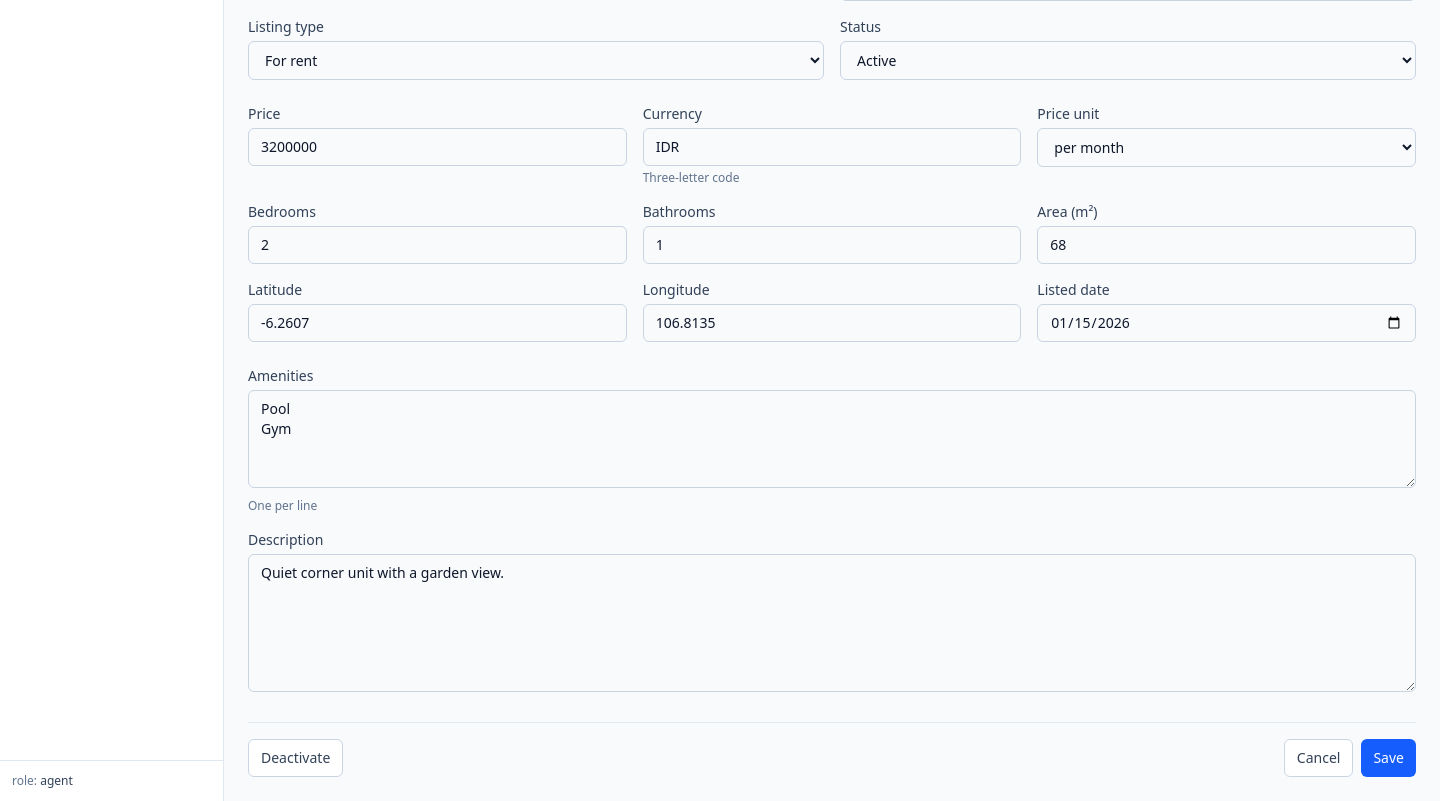
Test case: PropertyDetailPage › confirms before deactivating, and reflects the returned status
This screenshot has width=1440, height=801.
(page scrolled)
Click the button "Deactivate" at (296, 758), box [248,739,343,777]
(page scrolled)
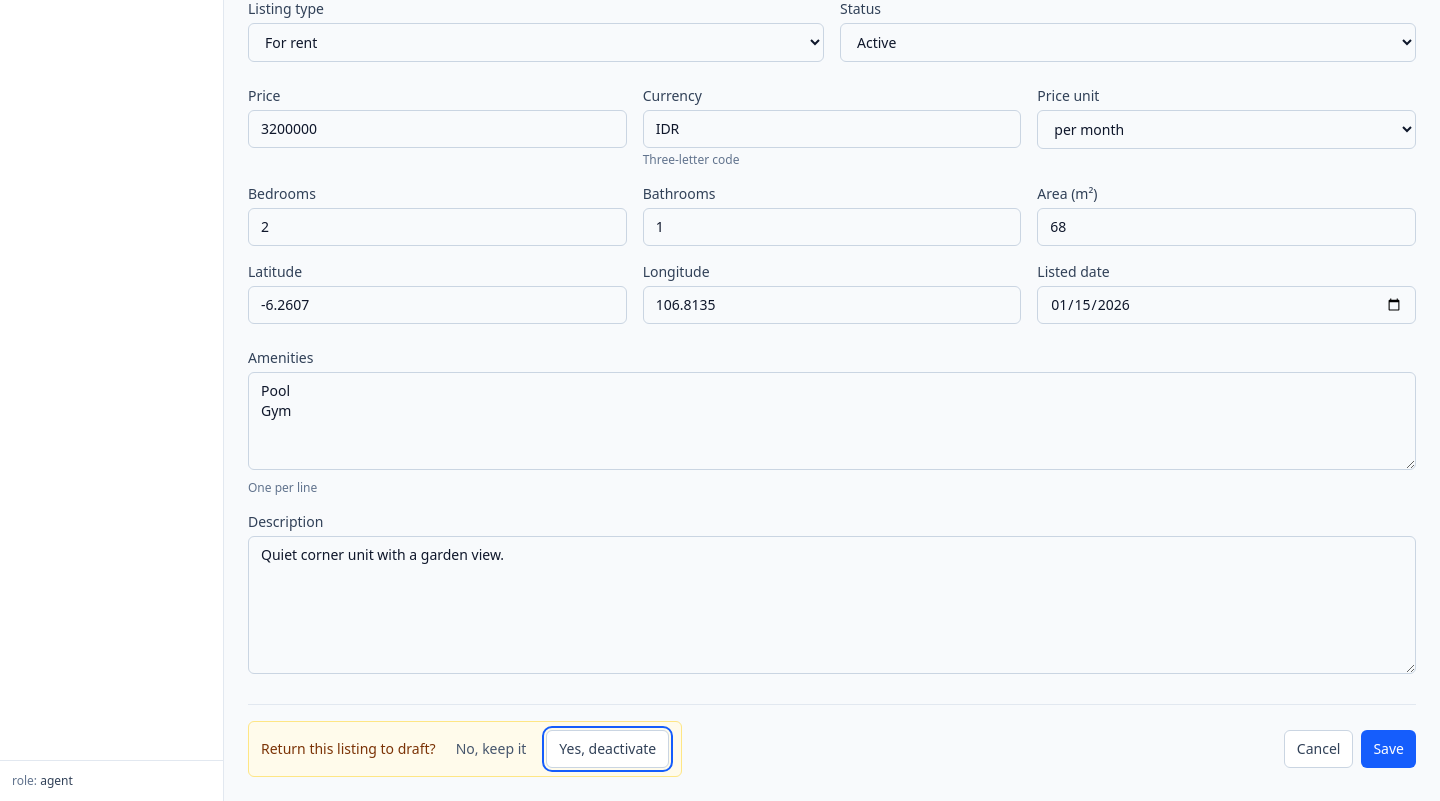
Click the button "Yes, deactivate" at (608, 749), box [546,730,669,768]
(page scrolled)
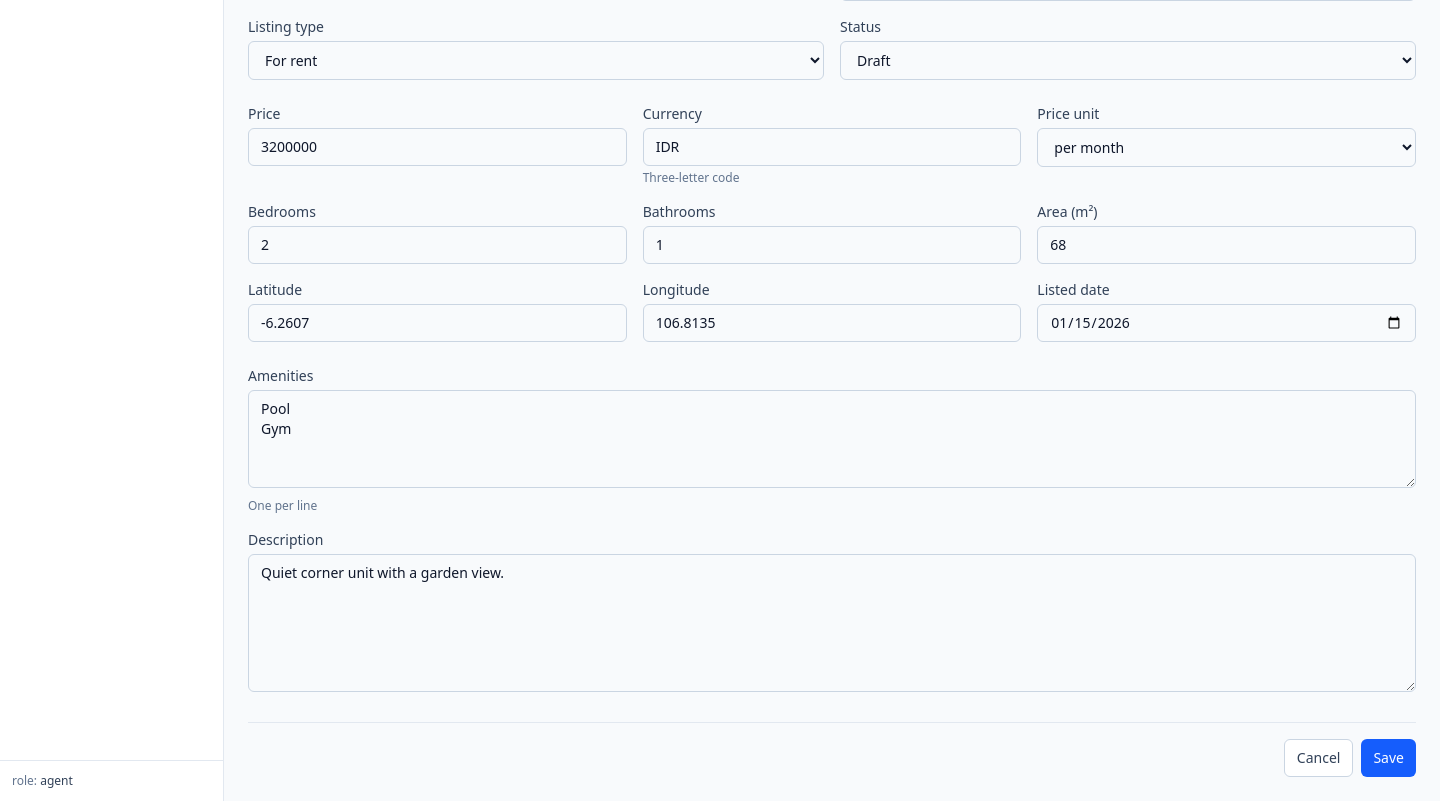
Result: the button "deactivate" is gone
Result: the dropdown labelled "Status" shows "Draft" at [840,41,1416,80]
